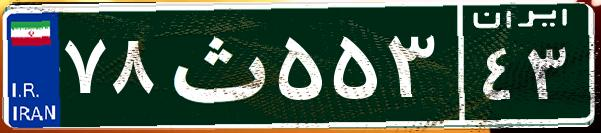3: (385, 28, 445, 110), (525, 38, 570, 115)
4: (475, 38, 525, 113)
5: (273, 28, 330, 110), (330, 28, 385, 110)
7: (57, 26, 110, 107)
8: (110, 28, 158, 105)
ث: (158, 15, 273, 115)
